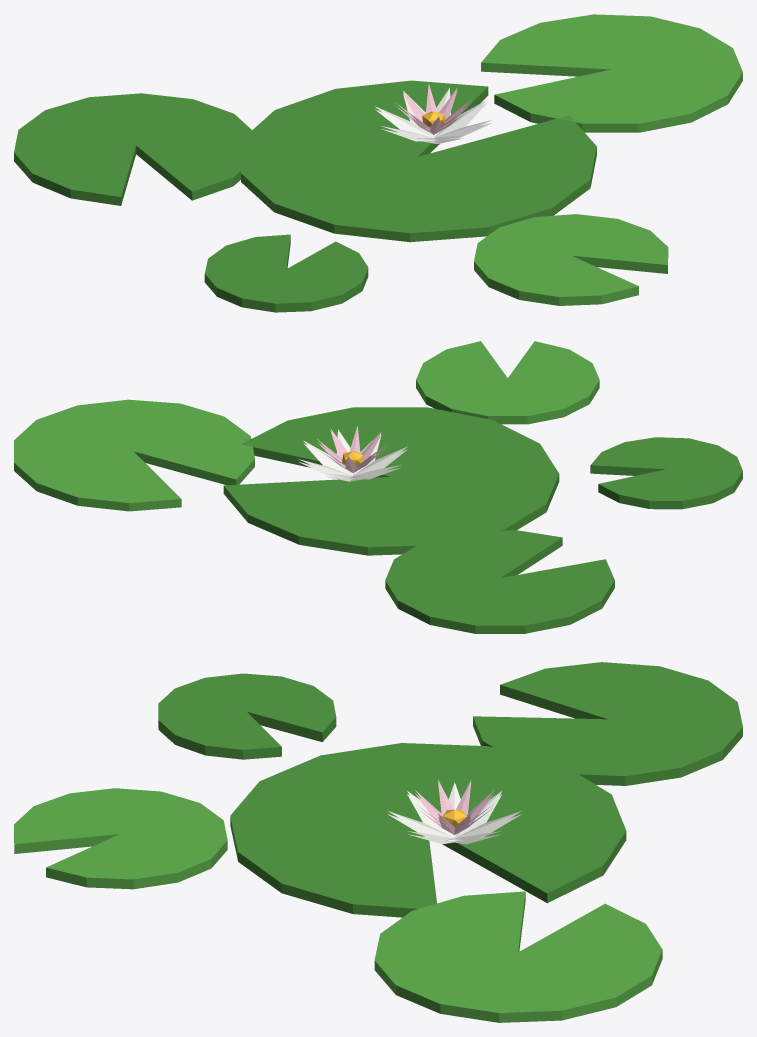
The model's file is Prop_LilyPads.fbx.
3 views of the same model, one above another, from view 1: azimuth 30°, elevation 25°; view 2: azimuth 150°, elevation 25°; view 3: azimuth 270°, elevation 25° (orthographic). The views are drawn at different scales.
Parts seen in each view (by area): view 1: Prop_LilyPads; view 2: Prop_LilyPads; view 3: Prop_LilyPads.
Boxes of the visible parts, bbox=[...] form: Prop_LilyPads: bbox=[14, 14, 742, 312]; Prop_LilyPads: bbox=[14, 341, 742, 633]; Prop_LilyPads: bbox=[14, 662, 742, 1022].
Bounding box in the file's own units: 0.9185 × 0.0672 × 0.8061.
